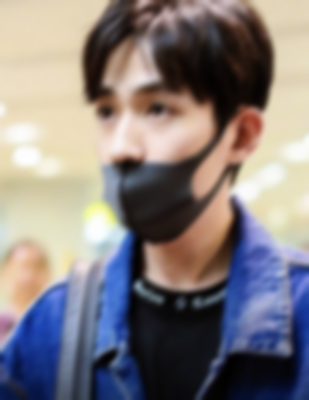mask_weared_incorrect: (90, 80, 212, 247)
